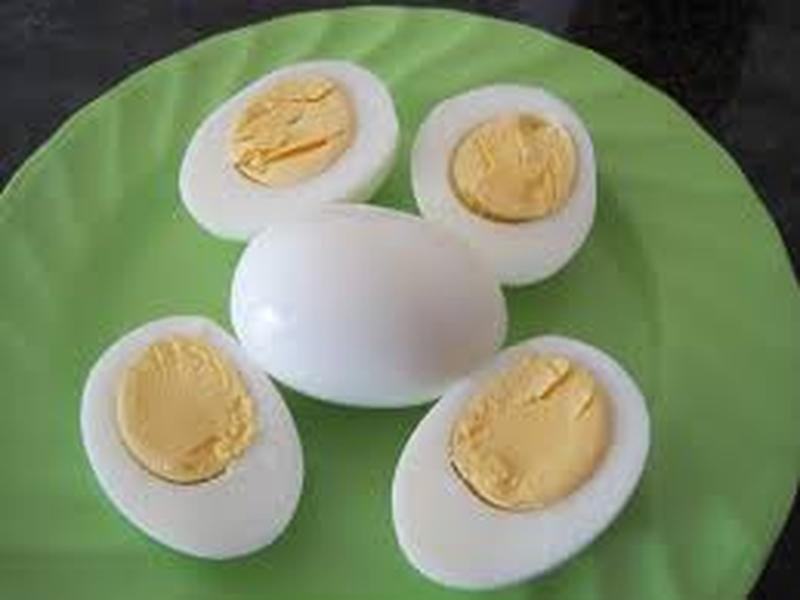egg: (68, 35, 705, 600)
